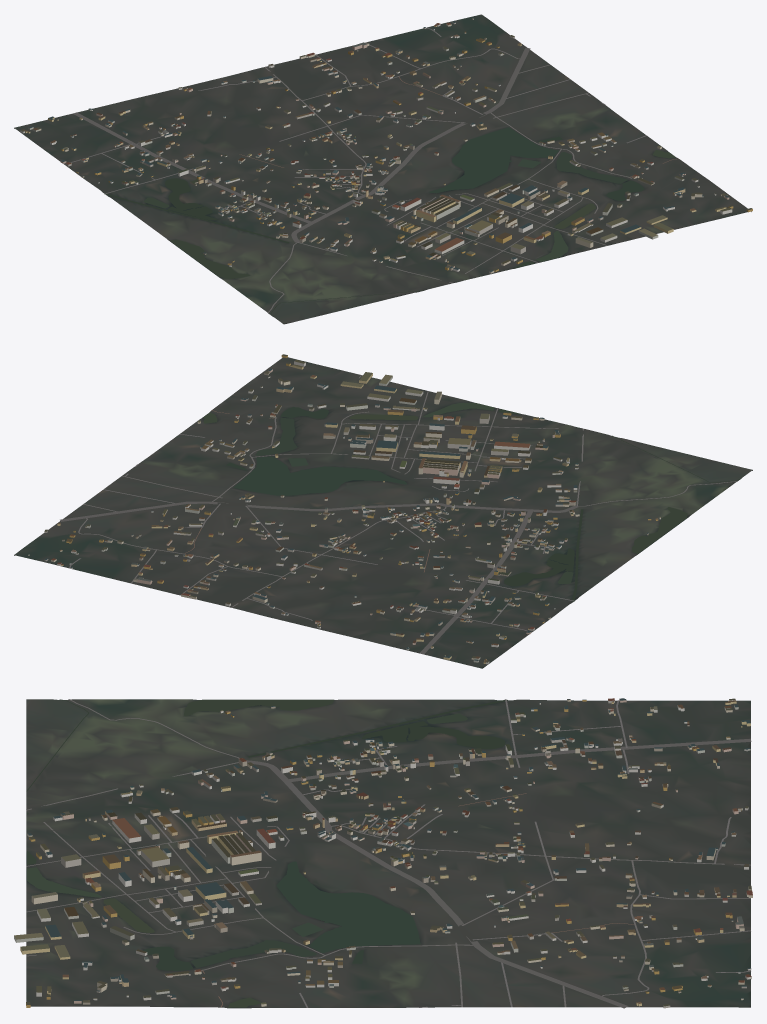
3 views of the same model, one above another, from view 1: azimuth 30°, elevation 25°; view 2: azimuth 150°, elevation 25°; view 3: azimuth 270°, elevation 25° (orthographic). The views are drawn at different scales.
Parts seen in each view (by area): view 1: ground, buildings, water, roads; view 2: ground, buildings, water, roads; view 3: ground, buildings, water, roads.
Boxes of the visible parts, x1,y1,x2,y2 form: ground: [14, 14, 751, 324]; buildings: [20, 18, 752, 273]; water: [104, 127, 675, 315]; roads: [63, 27, 678, 312]; ground: [14, 357, 752, 668]; buildings: [28, 354, 660, 664]; water: [203, 402, 740, 601]; roads: [60, 375, 736, 654]; ground: [26, 699, 750, 1008]; buildings: [14, 698, 752, 1008]; water: [26, 699, 507, 1007]; roads: [26, 699, 751, 1008].
Size of the model in its own units: 1410 by 25.59 by 1430.
